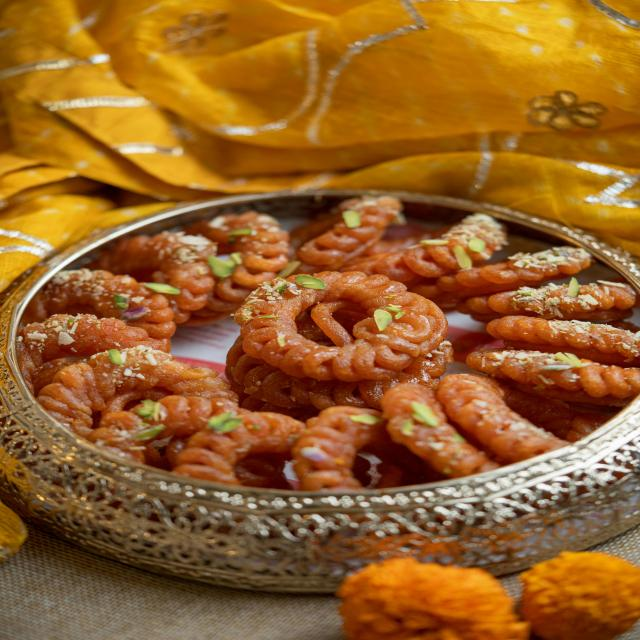Imarti: (25, 198, 638, 486)
